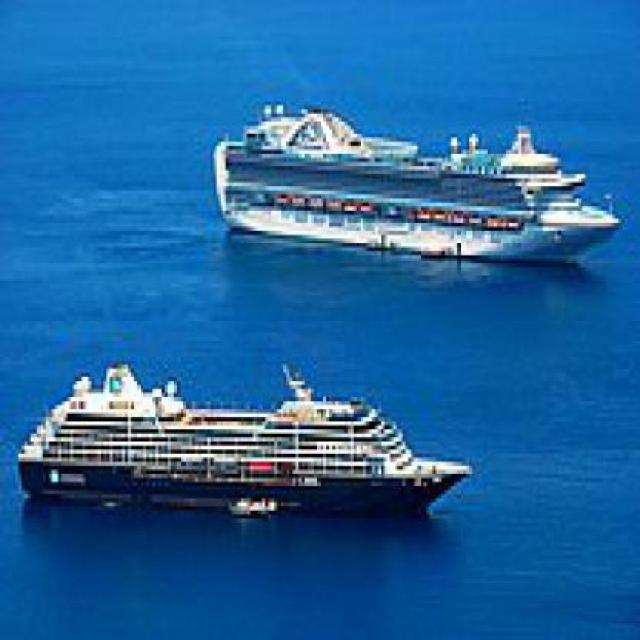cruise: (7, 350, 498, 541), (208, 90, 632, 289)
